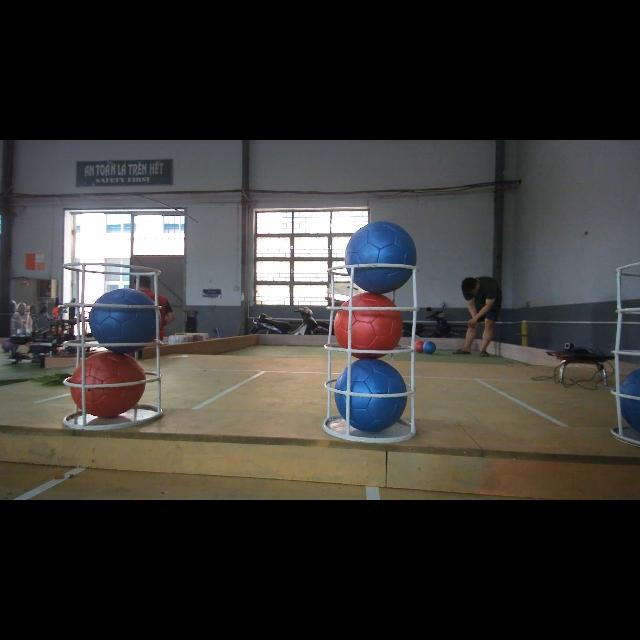B: (336, 359, 408, 429), (349, 223, 418, 295), (90, 286, 162, 354), (616, 361, 640, 435)
R: (68, 352, 152, 422), (330, 292, 408, 360)
